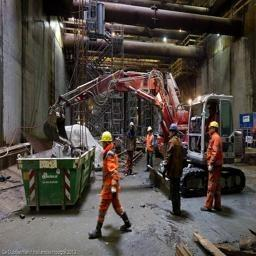hat: (98, 129, 120, 149), (205, 121, 226, 136), (167, 121, 184, 139), (144, 122, 155, 134), (129, 121, 139, 134)
no vest: (96, 146, 123, 190), (204, 135, 231, 176), (165, 137, 184, 182), (125, 131, 138, 161)
vest: (145, 134, 156, 159)
